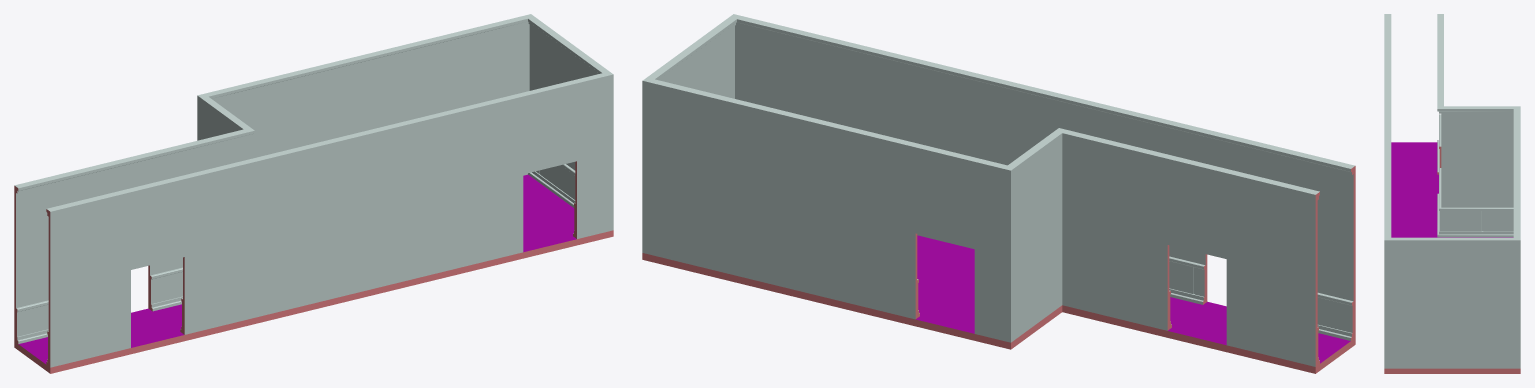
File: Hallway.fbx
3 views of the same model, side by side, from view 1: azimuth 30°, elevation 25°; view 2: azimuth 150°, elevation 25°; view 3: azimuth 270°, elevation 25° (orthographic). The views are drawn at different scales.
Visible parts, largest first — view 1: polySurface183; view 2: polySurface183; view 3: polySurface183.
Part boxes in pixels (x1,y1,x2,y2): polySurface183: (14, 14, 613, 373); polySurface183: (642, 14, 1355, 373); polySurface183: (1384, 14, 1520, 373).
Size of the model in its own units: 189 by 52 by 48.
